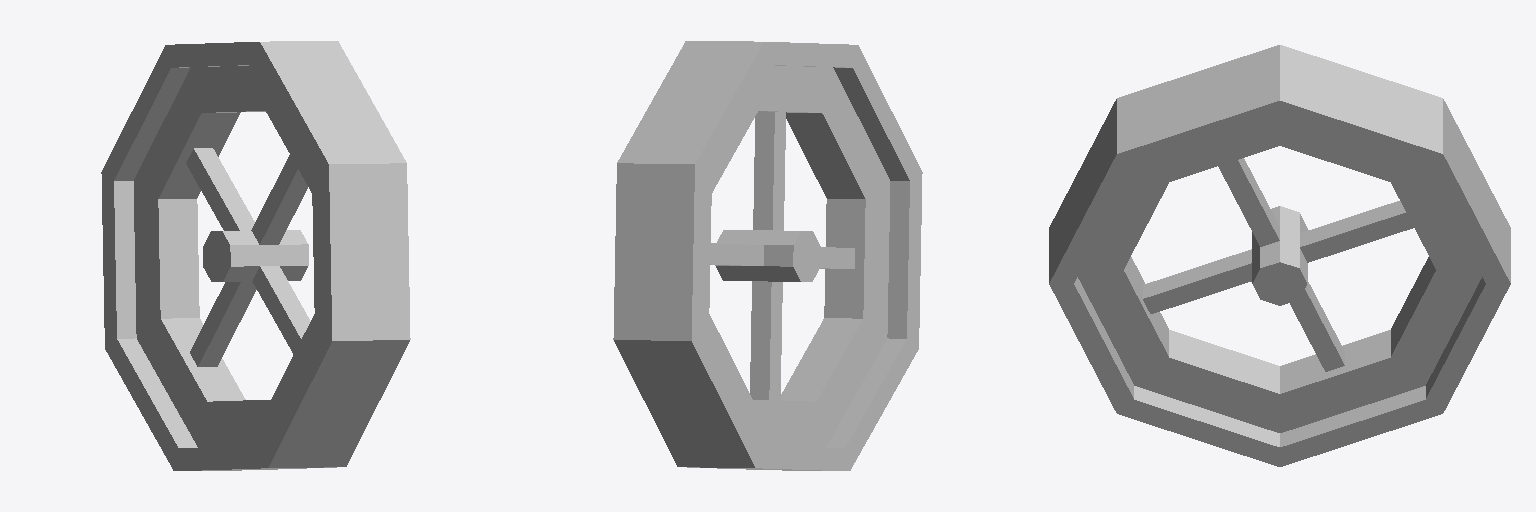
The model's file is wheel.obj.
3 renders of one model, left to right at view 1: azimuth 30°, elevation 25°; view 2: azimuth 150°, elevation 25°; view 3: azimuth 270°, elevation 25°, orthographic.
Parts seen in each view (by area): view 1: wheel; view 2: wheel; view 3: wheel.
Part boxes in pixels (left/top/right/bottom): wheel: left=101, top=41, right=410, bottom=470; wheel: left=613, top=41, right=922, bottom=470; wheel: left=1049, top=45, right=1510, bottom=466.
Size of the model in its own units: 0.2076 by 0.5162 by 0.5063.